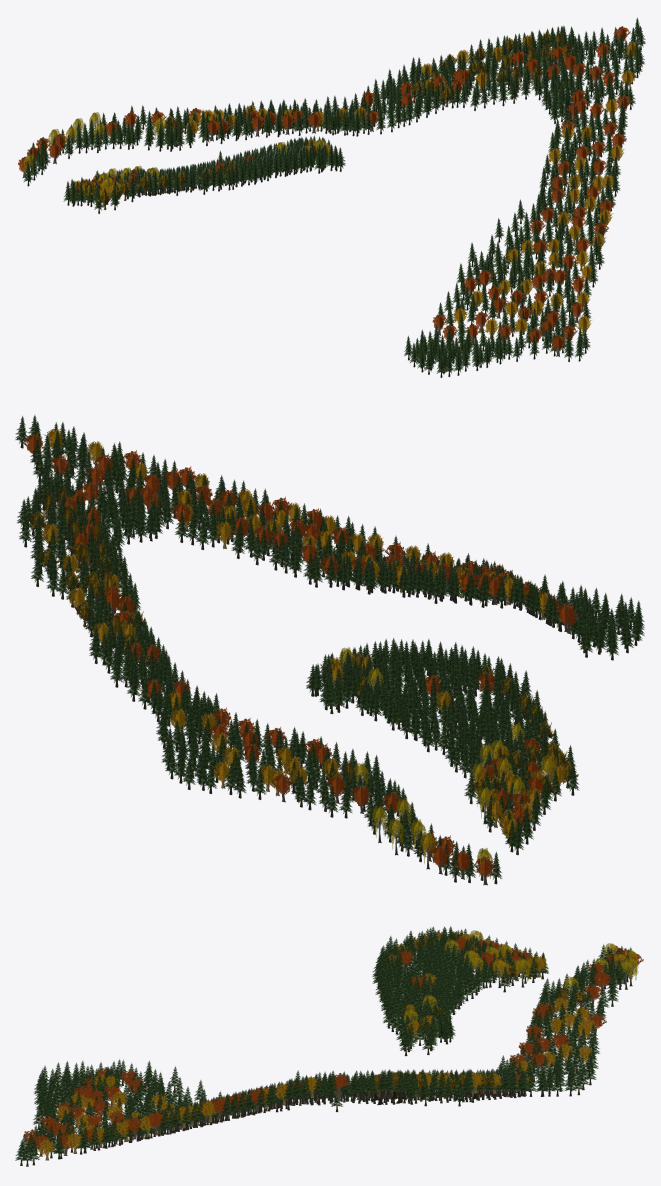
Rendered from lowpoly_trees_4.glb.
3 views of the same model, one above another, from view 1: azimuth 30°, elevation 25°; view 2: azimuth 150°, elevation 25°; view 3: azimuth 270°, elevation 25° (orthographic). The views are drawn at different scales.
Parts seen in each view (by area): view 1: fir_tree.png__, tree_c.png__, tree_d.png__, tree_b.png__, birch_tree.png__, willow_tree.png__; view 2: fir_tree.png__, tree_c.png__, tree_d.png__, tree_b.png__, birch_tree.png__, willow_tree.png__; view 3: fir_tree.png__, tree_c.png__, tree_d.png__, birch_tree.png__, tree_b.png__, willow_tree.png__.
Boxes of the visible parts, bbox=[...] form: fir_tree.png__: bbox=[23, 17, 645, 377]; tree_c.png__: bbox=[18, 26, 631, 356]; tree_d.png__: bbox=[70, 35, 639, 339]; tree_b.png__: bbox=[85, 31, 557, 210]; birch_tree.png__: bbox=[23, 112, 325, 204]; willow_tree.png__: bbox=[172, 33, 571, 147]; fir_tree.png__: bbox=[15, 415, 644, 884]; tree_c.png__: bbox=[22, 433, 577, 885]; tree_d.png__: bbox=[41, 428, 567, 845]; tree_b.png__: bbox=[26, 504, 578, 826]; birch_tree.png__: bbox=[339, 647, 556, 885]; willow_tree.png__: bbox=[42, 487, 353, 785]; fir_tree.png__: bbox=[15, 926, 633, 1166]; tree_c.png__: bbox=[23, 936, 643, 1156]; tree_d.png__: bbox=[36, 933, 596, 1160]; birch_tree.png__: bbox=[403, 930, 638, 1023]; tree_b.png__: bbox=[384, 930, 590, 1098]; willow_tree.png__: bbox=[368, 988, 569, 1105].
Bounding box in the file's own units: 429 × 157 × 440.
6 materials, 6 textured.
